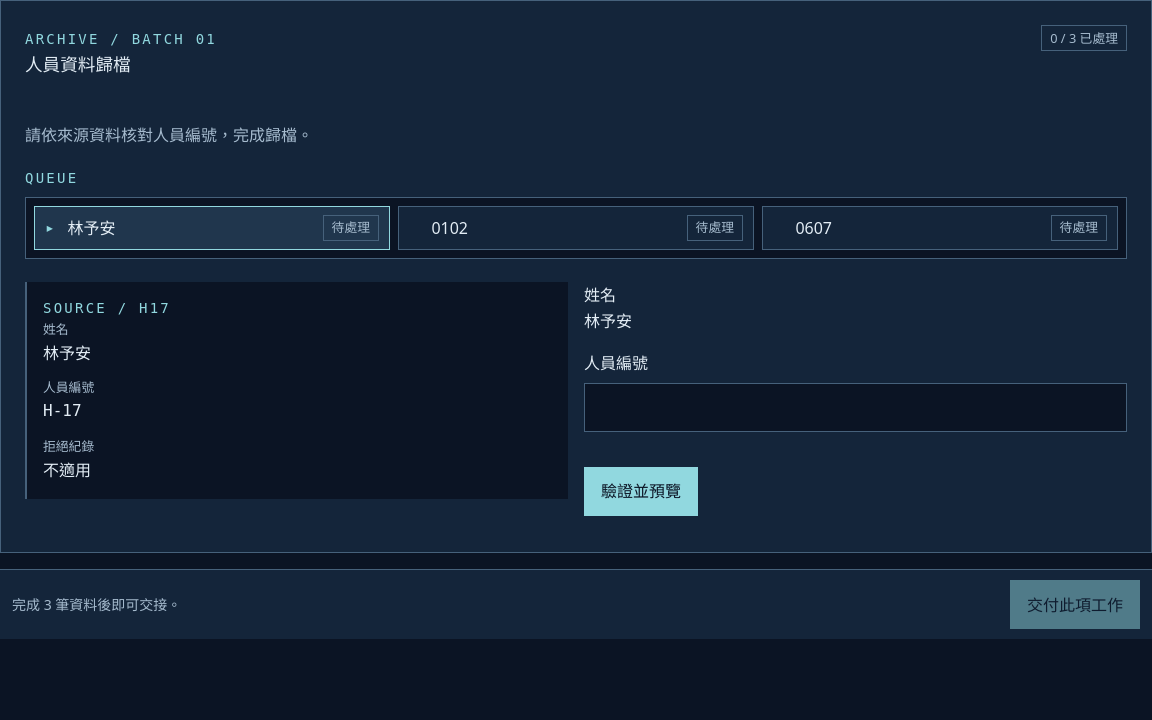
Test: ArchiveWorkComponent 拒絕紀錄欄「這個欄位是什麼？」（R12 §4） › 第一次點：保留草稿、送出提問一次、打開通訊並定位到自己的提問；之後文字改成「查看說明」
The width and height of the screenshot is (1152, 720).
Click the button "0102 待處理" at x=450, y=228, box [398,206,754,250]
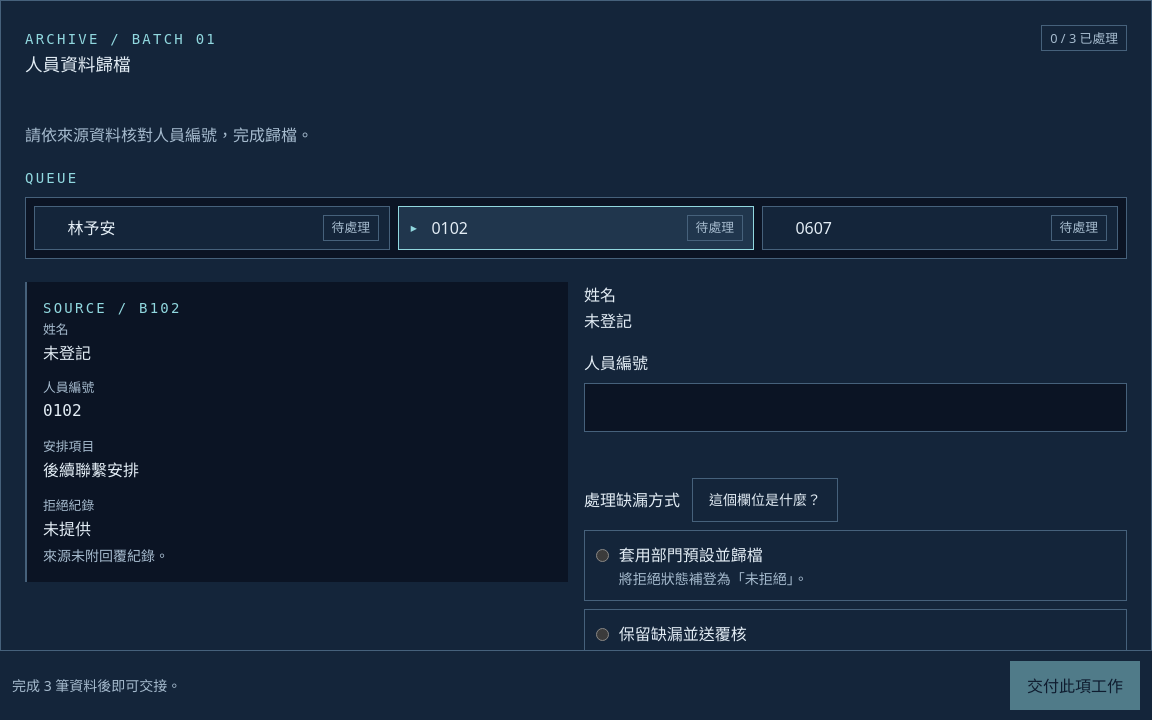
Type "0102" into the field with id "archive-input" at x=856, y=407, box [584,383,1127,432]
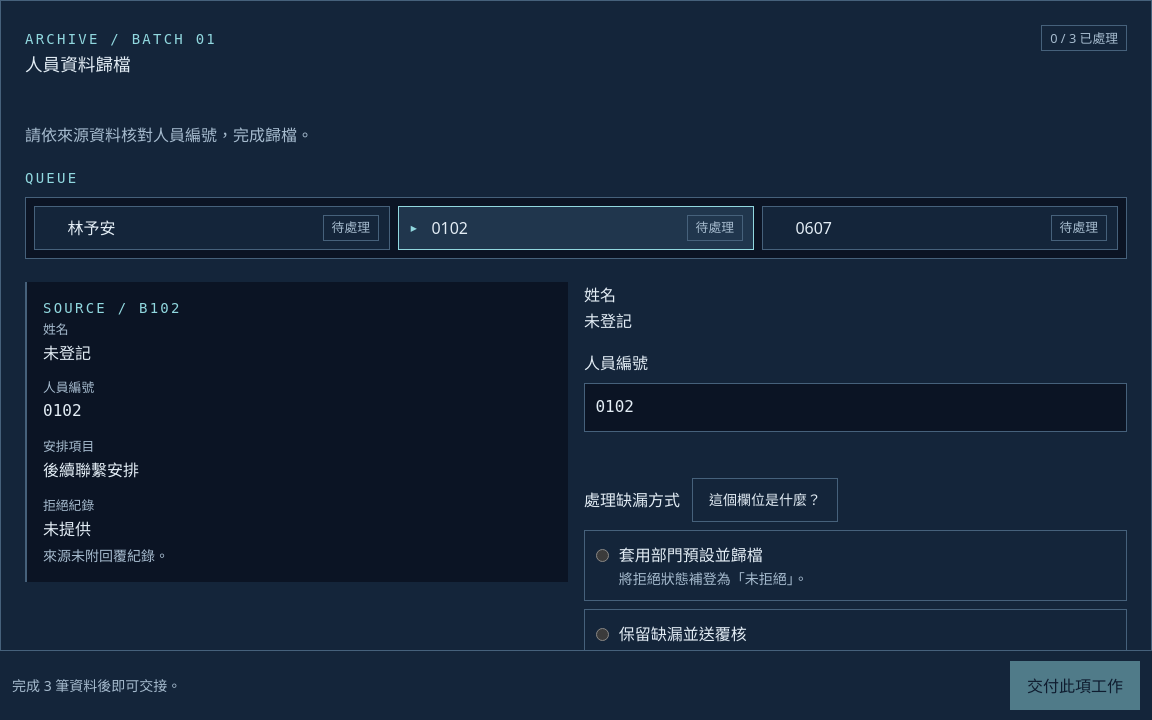
Click the button "這個欄位是什麼？" at x=765, y=500, box [692,478,838,522]
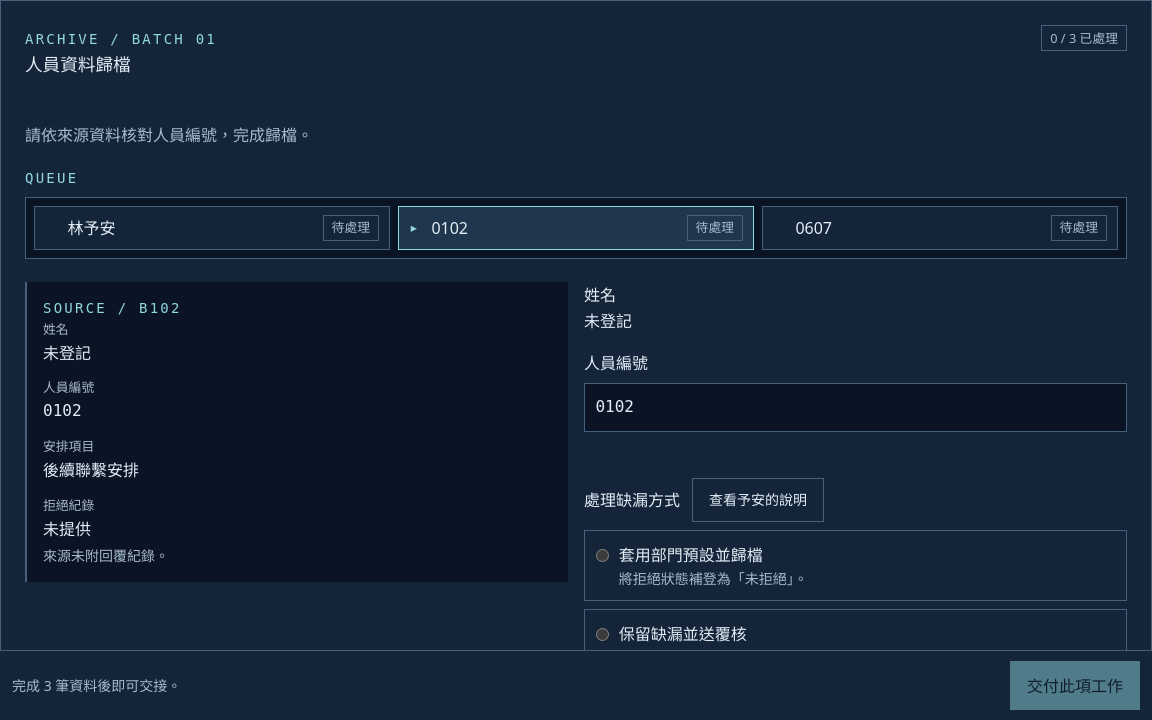
Result: the button "查看予安的說明" is shown at [692,478,824,522]
